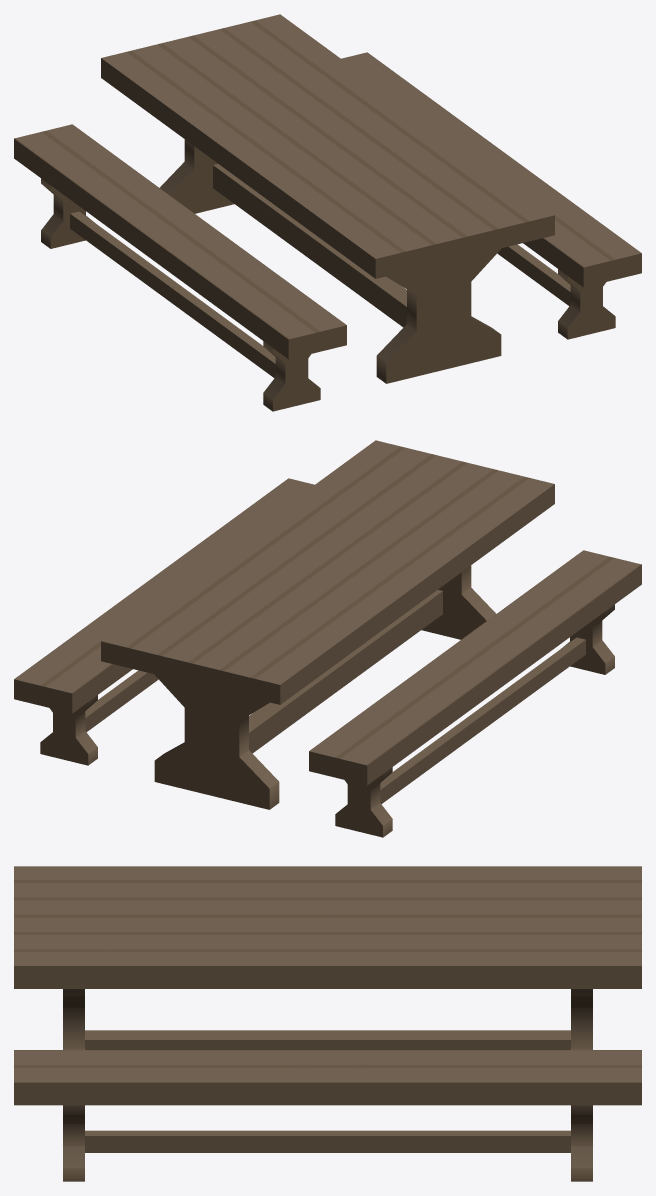
Rendered from SD_Prop_Table_01.fbx.
The picture shows the model from 3 angles, top to bottom: view 1: azimuth 30°, elevation 25°; view 2: azimuth 150°, elevation 25°; view 3: azimuth 270°, elevation 25°; orthographic projection. The views are drawn at different scales.
Visible parts, largest first — view 1: SD_Prop_Table_01; view 2: SD_Prop_Table_01; view 3: SD_Prop_Table_01.
Part boxes in pixels (<box>): SD_Prop_Table_01: <box>14,14,641,411</box>; SD_Prop_Table_01: <box>14,440,641,837</box>; SD_Prop_Table_01: <box>14,866,641,1181</box>.
Bounding box in the file's own units: 3.62 × 1.45 × 4.87.
